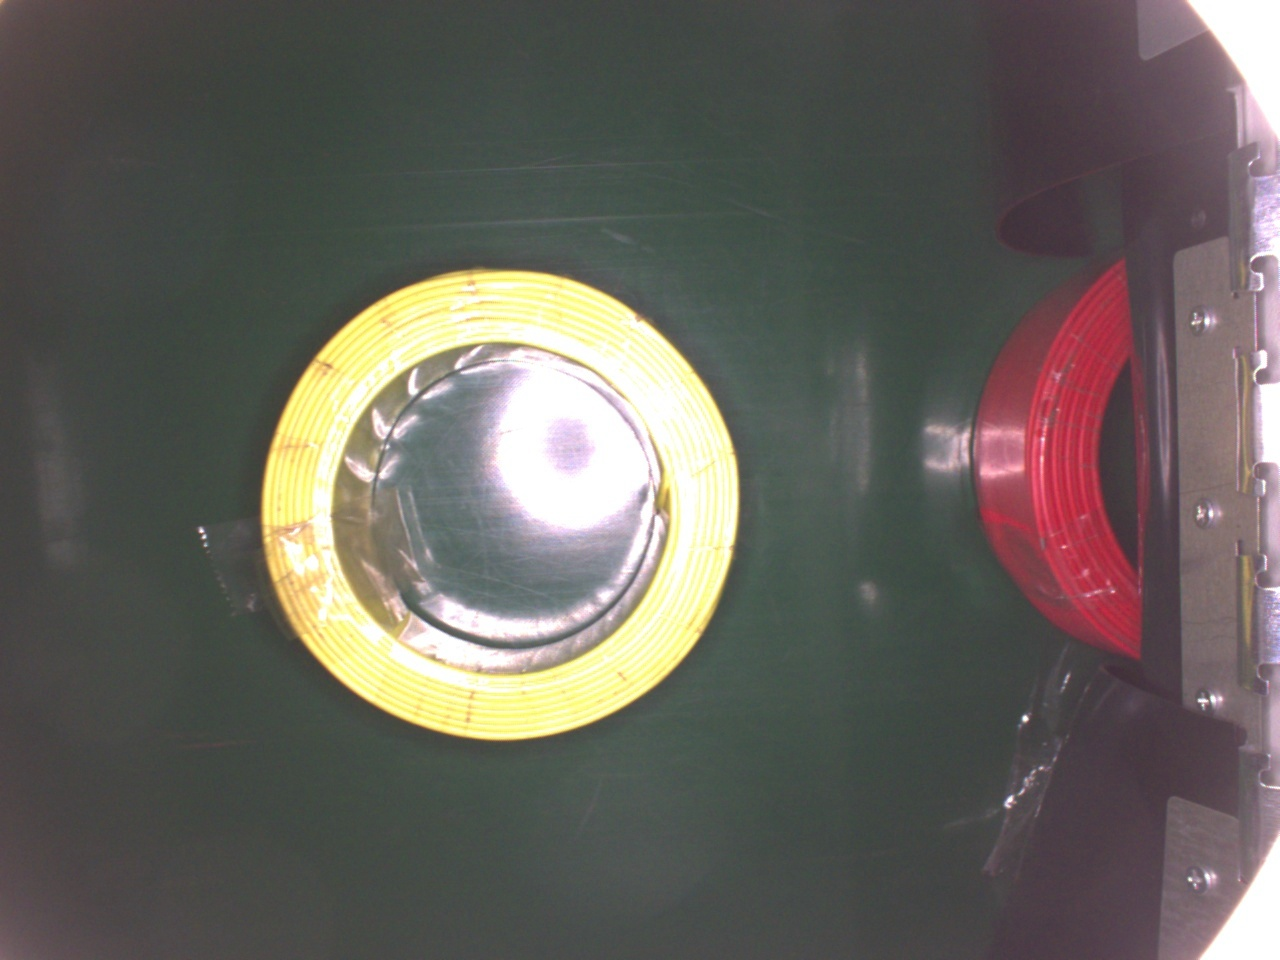red: (966, 251, 1157, 659)
yellow: (255, 265, 740, 745)
